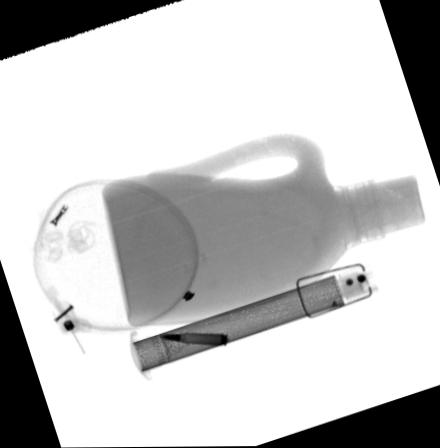Bullet: (158, 333, 229, 346)
